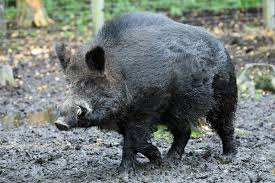boar: (51, 6, 240, 171)
